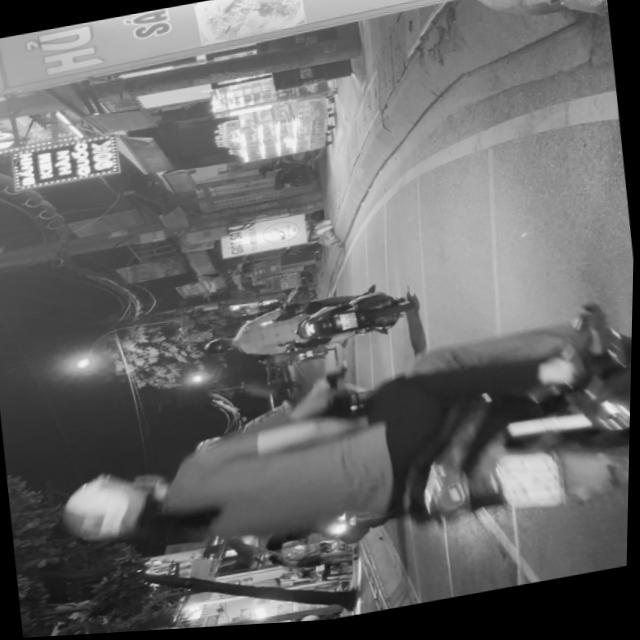helmet: (57, 463, 181, 550), (205, 337, 237, 359)
licenseplate: (42, 305, 634, 607), (199, 283, 416, 372)
nohelmet: (496, 453, 567, 522), (340, 315, 360, 334)
